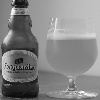beer: (1, 1, 41, 97)
